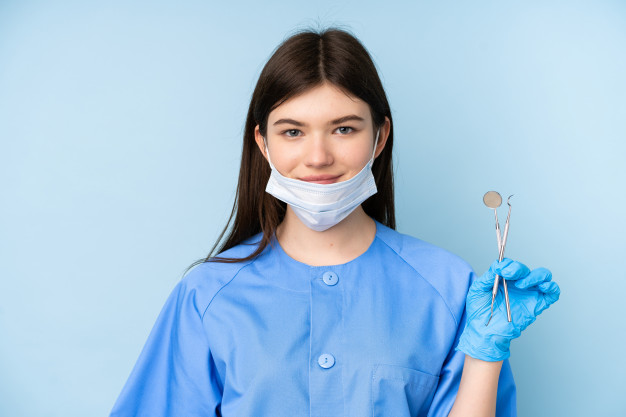mask_weared_incorrect: (250, 89, 396, 234)
